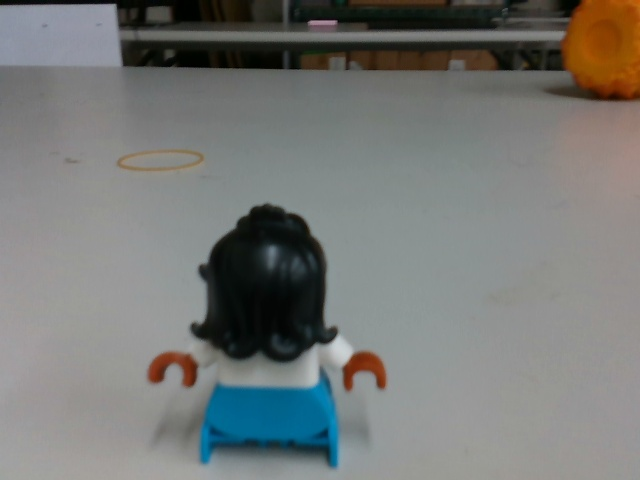people: (150, 198, 396, 466)
